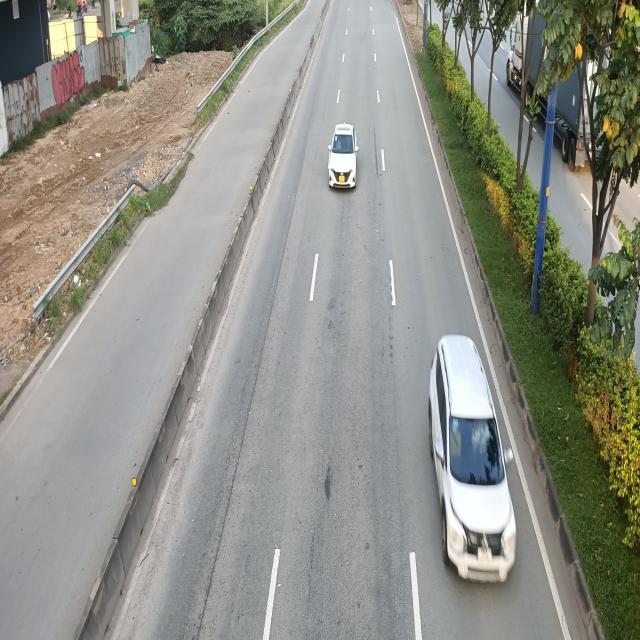car: (427, 334, 515, 585), (328, 124, 361, 190)
